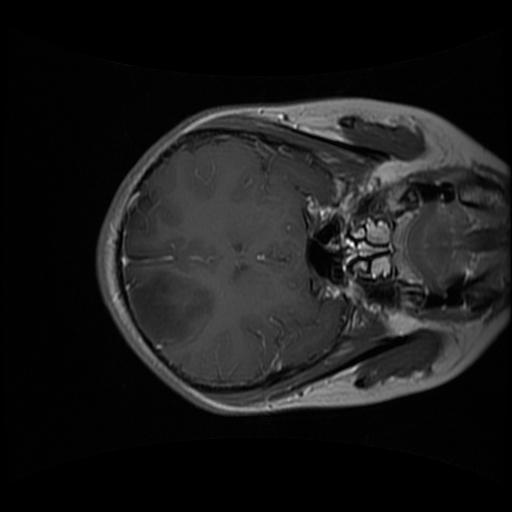glioma: (126, 267, 215, 348)
